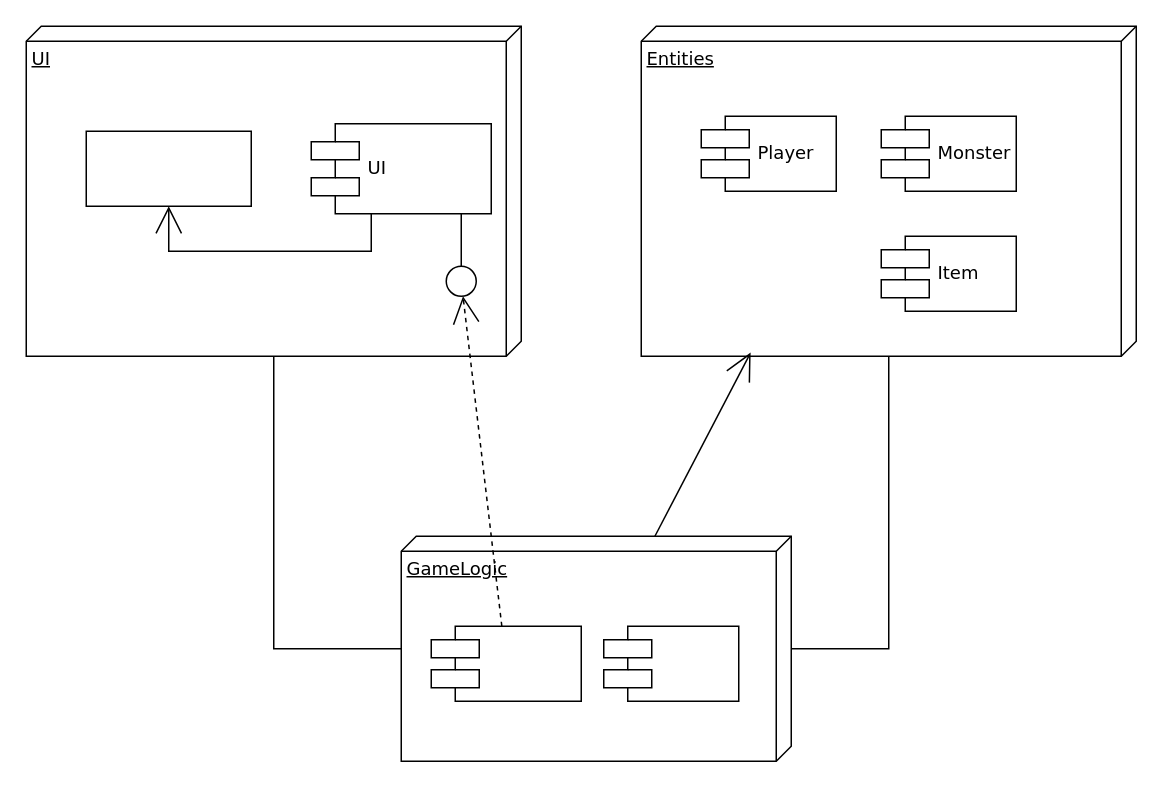
Some shapes in this 1163 by 788 pixel diagram are drawn without their labels. The centre of each missing label's shape, as x and y in pixels:
Game: (x=505, y=663)
Saver: (x=670, y=663)
Third-party GUI lib: (x=168, y=168)
